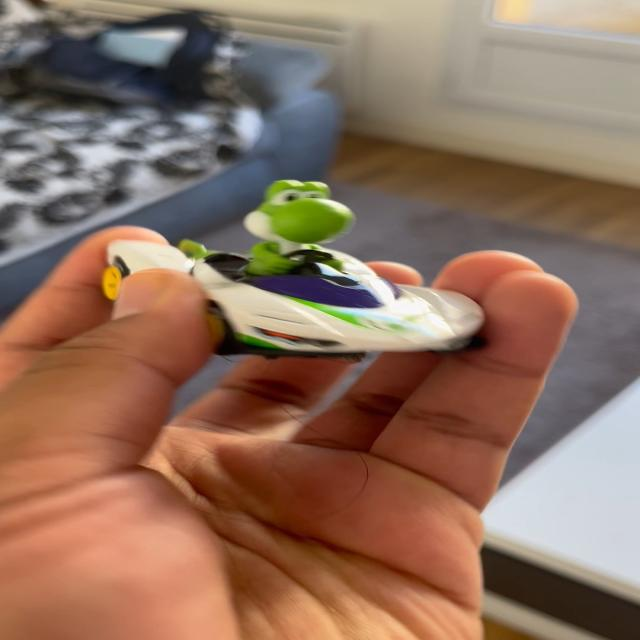yoshi: (68, 164, 501, 363)
